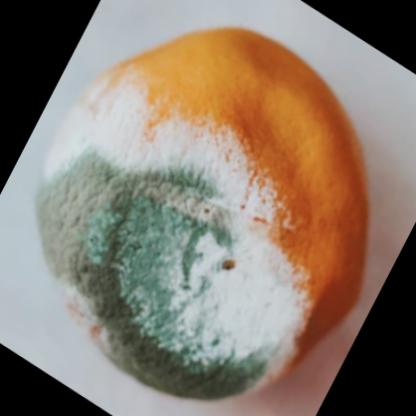rotten: (40, 30, 373, 397)
